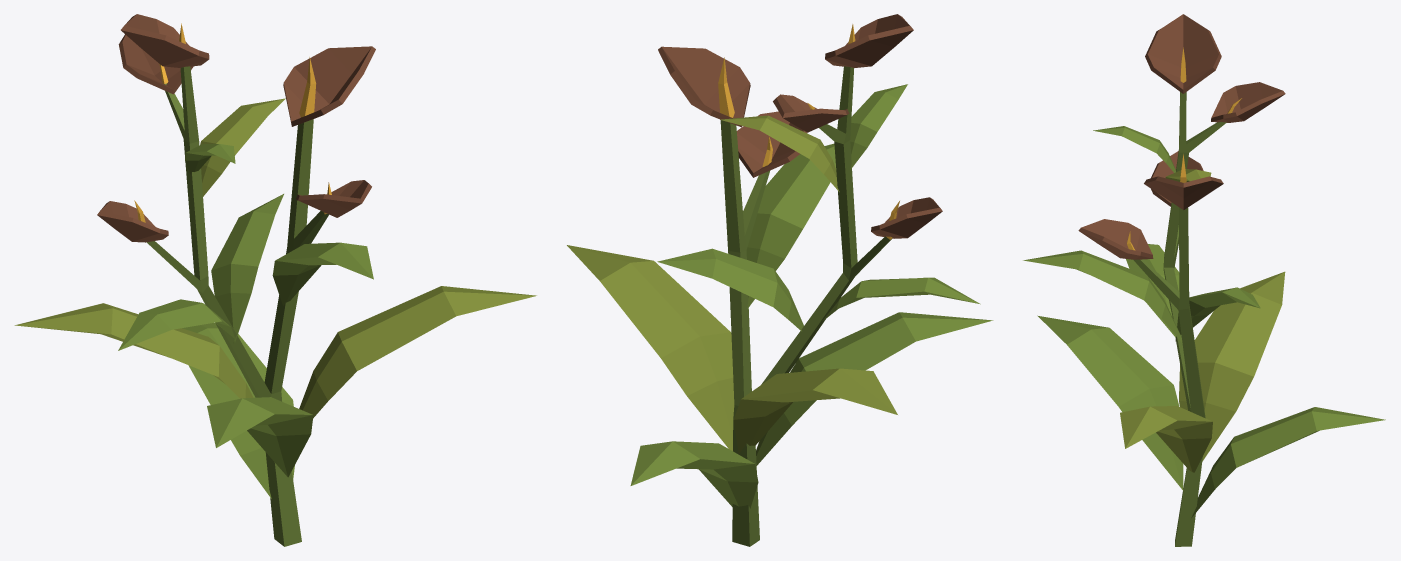
The model's file is Flower_3.fbx.
3 renders of one model, left to right at view 1: azimuth 30°, elevation 25°; view 2: azimuth 150°, elevation 25°; view 3: azimuth 270°, elevation 25°, orthographic. The views are drawn at different scales.
Parts seen in each view (by area): view 1: Flower_3; view 2: Flower_3; view 3: Flower_3.
Part boxes in pixels (x1,y1,x2,y2): Flower_3: (14,14,536,546); Flower_3: (567,14,993,546); Flower_3: (1023,14,1385,546).
Size of the model in its own units: 68.84 by 85.45 by 60.86.
